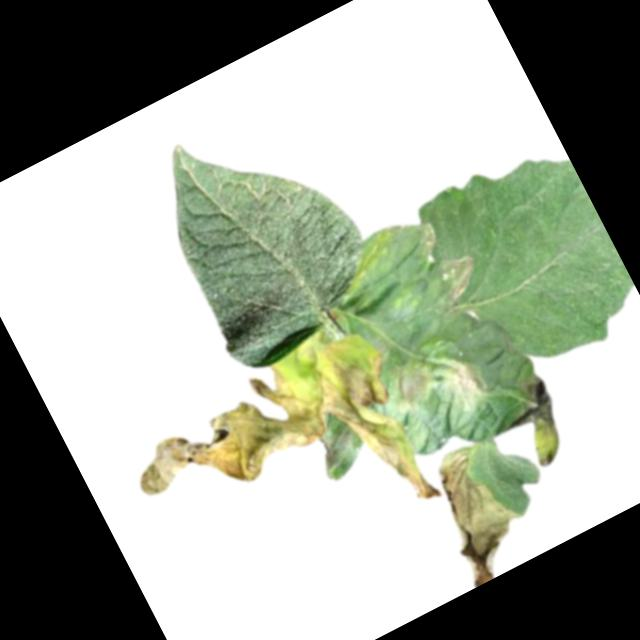Late_blight: (117, 315, 455, 617), (414, 434, 542, 587), (494, 374, 580, 475), (436, 353, 496, 417), (383, 354, 443, 412), (431, 248, 488, 306), (412, 220, 444, 257)
healthy: (131, 85, 397, 379), (411, 130, 640, 392)
